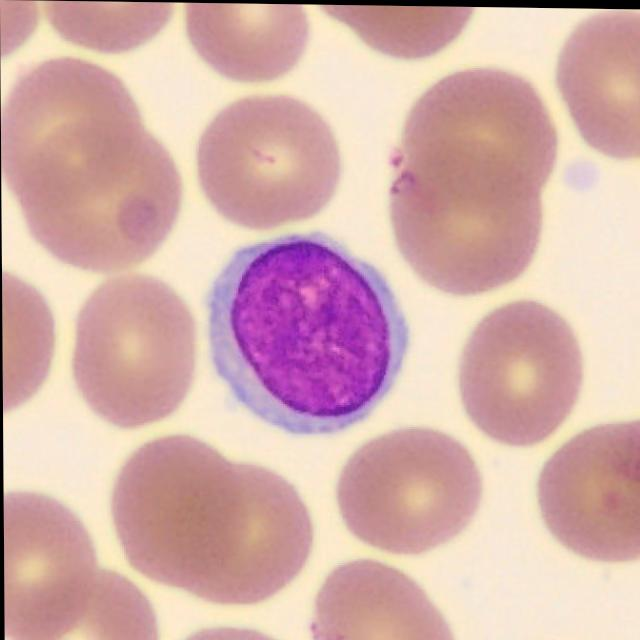Linfocito: (206, 234, 410, 436)
